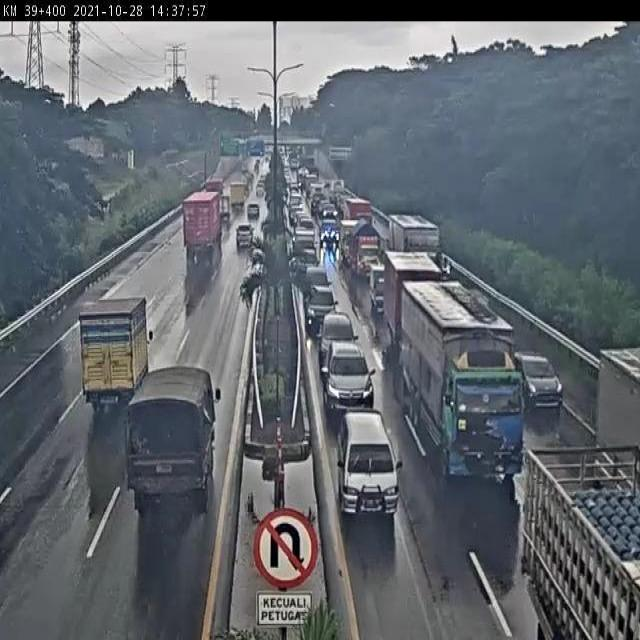car: (514, 348, 563, 411)
truck-l-: (399, 280, 521, 480)
truck-m-: (124, 368, 218, 520), (79, 293, 153, 411)
truck-xl-: (178, 193, 223, 270)
